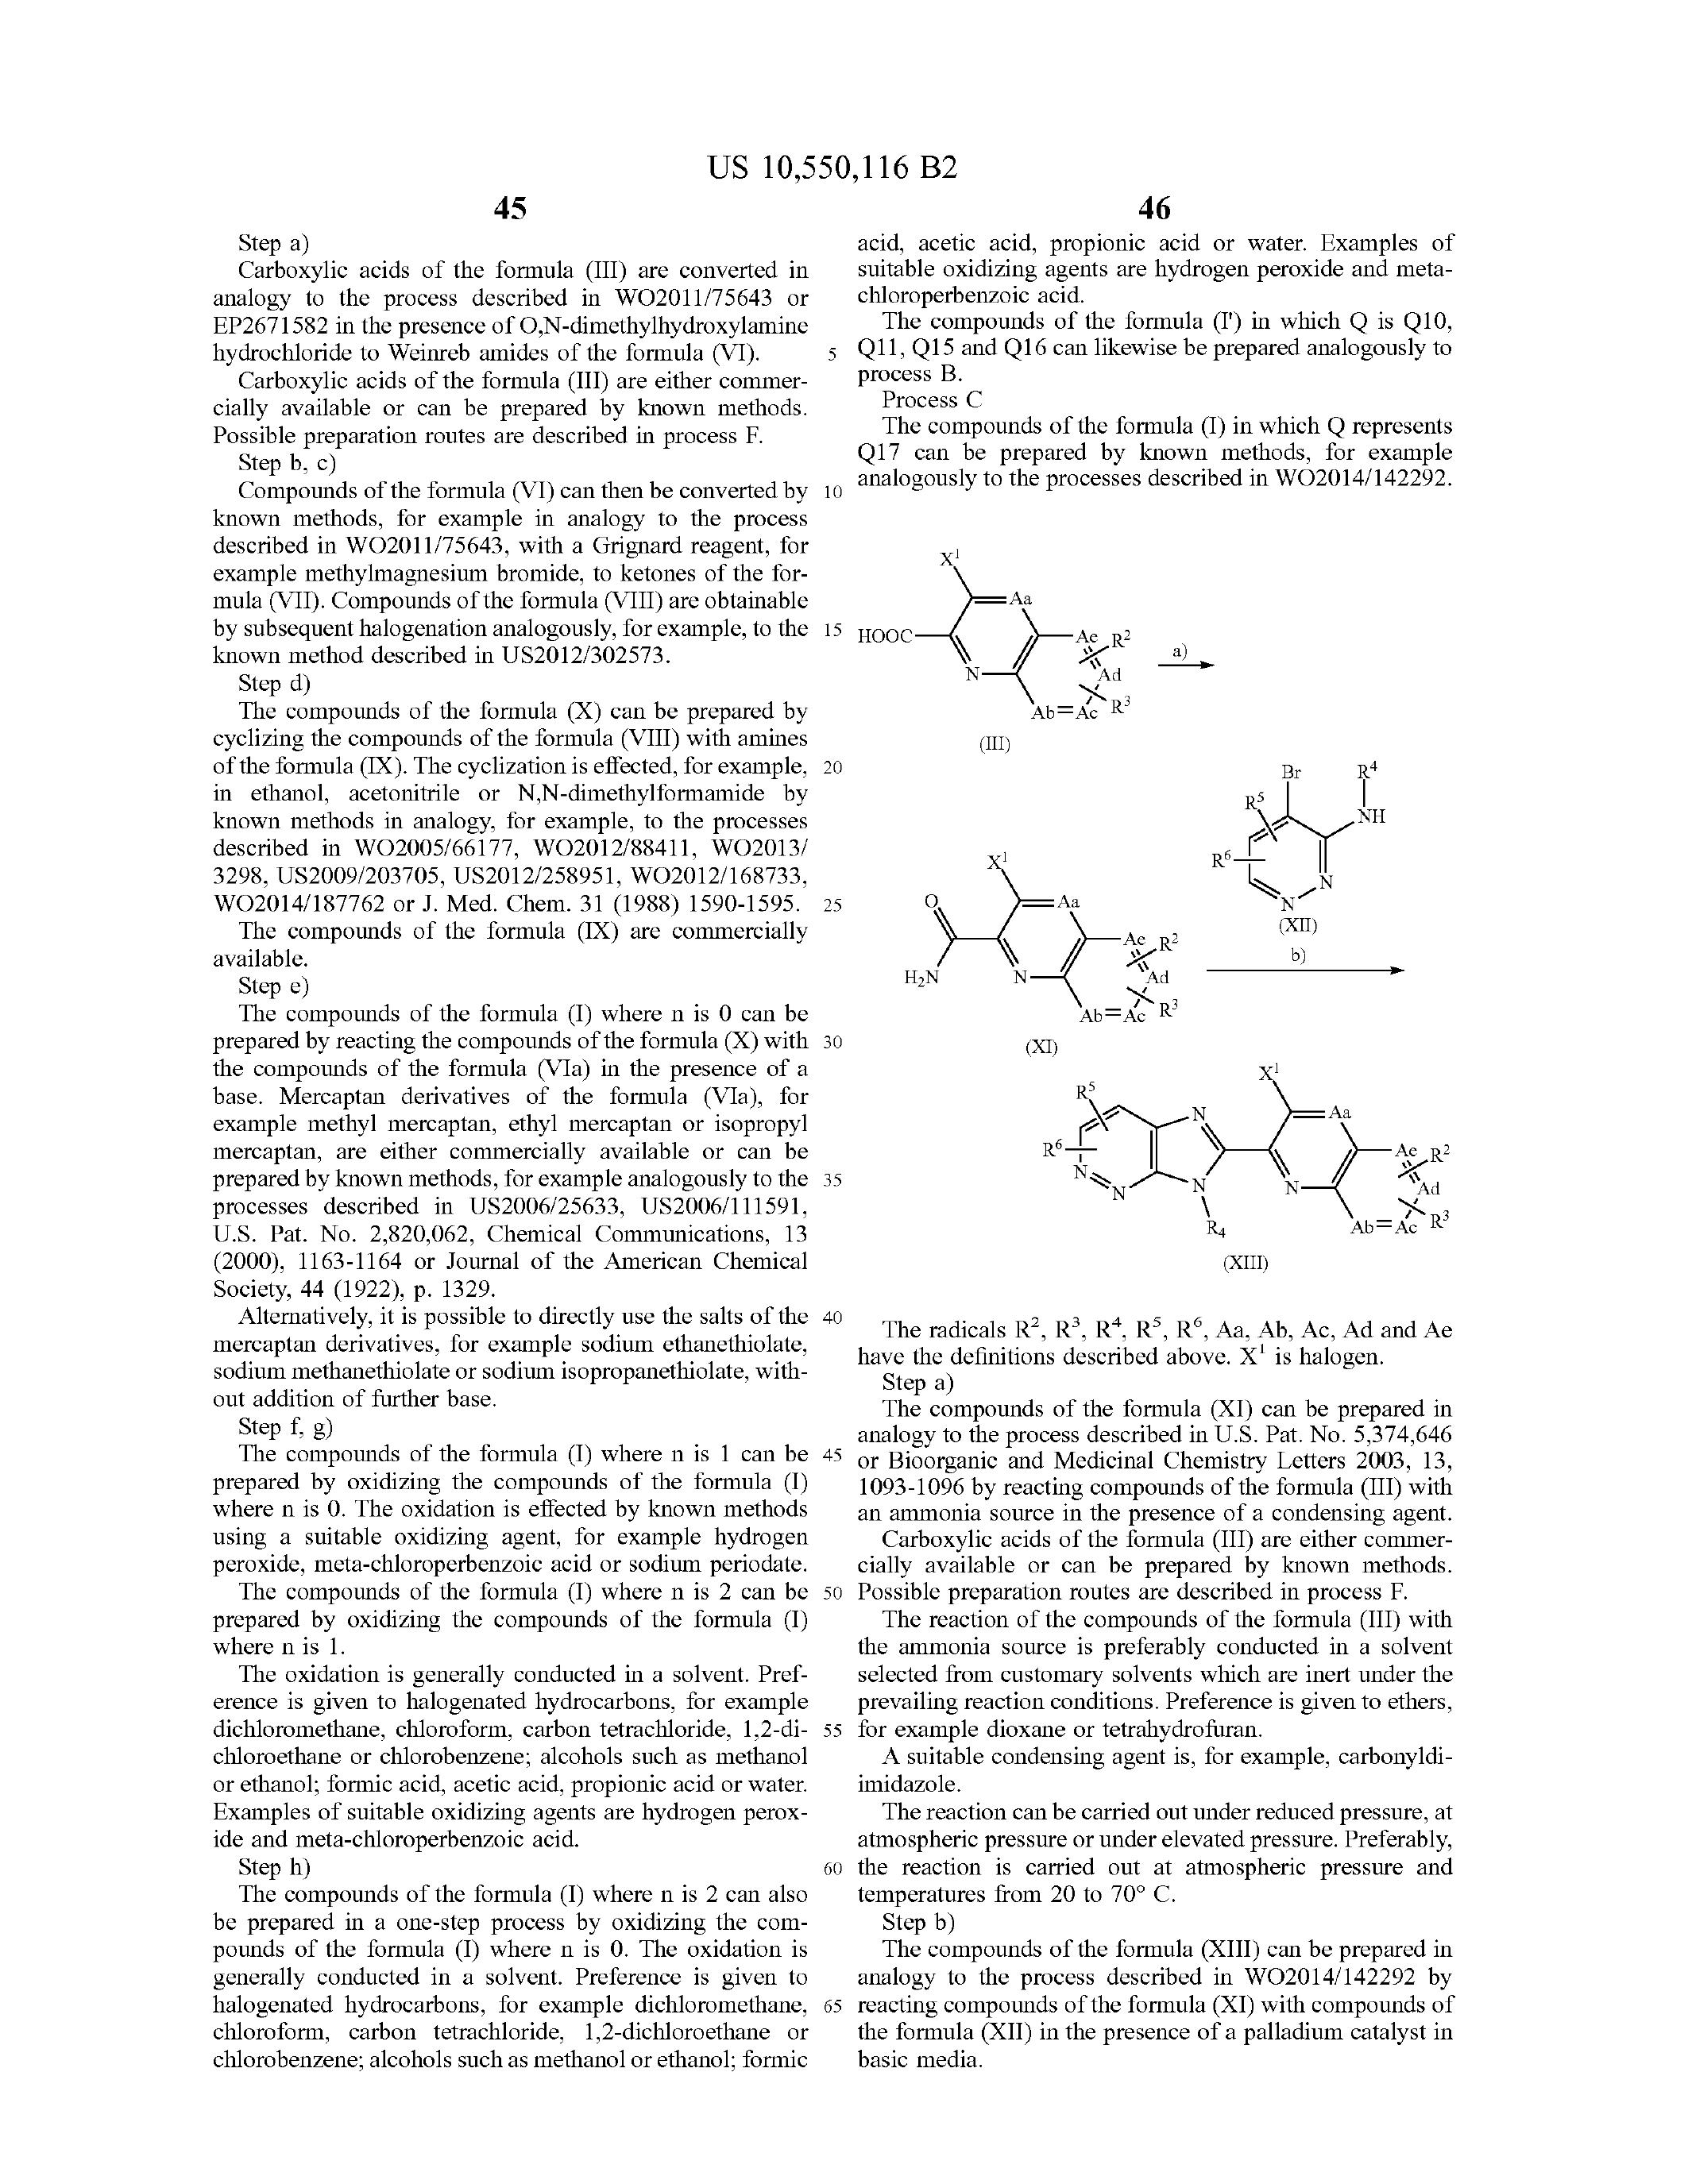reactions: (824, 535, 1497, 1282)
